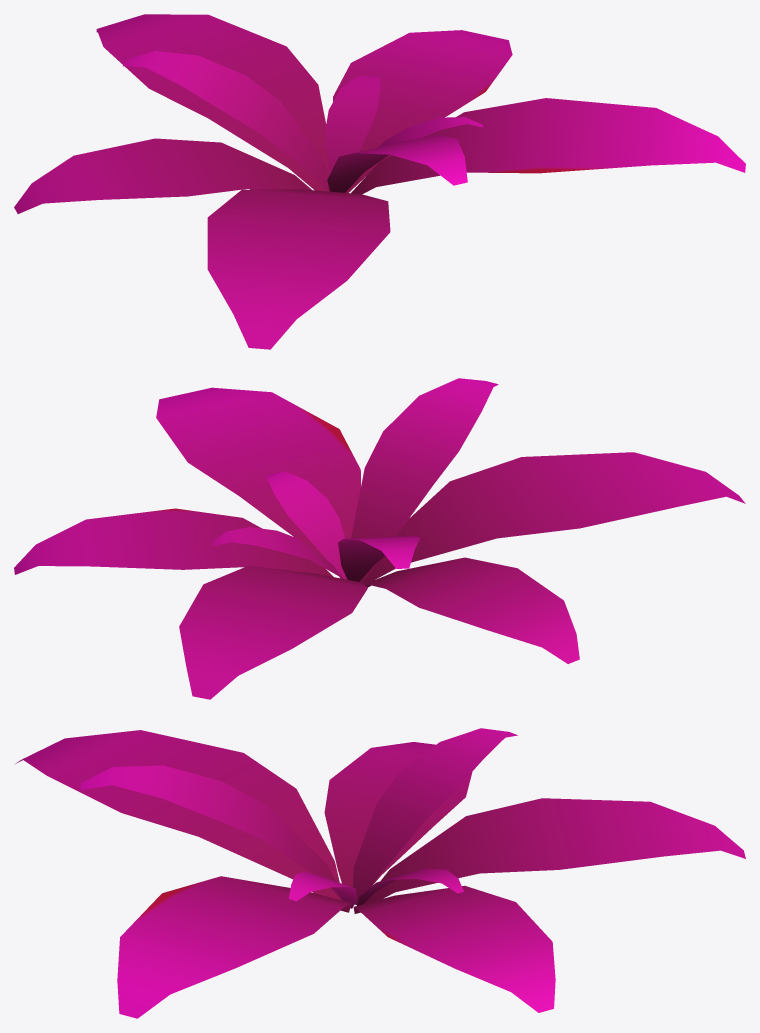
File: plant3_003.fbx
The picture shows the model from 3 angles, top to bottom: view 1: azimuth 30°, elevation 25°; view 2: azimuth 150°, elevation 25°; view 3: azimuth 270°, elevation 25°; orthographic projection. The views are drawn at different scales.
Parts seen in each view (by area): view 1: plant3.003; view 2: plant3.003; view 3: plant3.003.
Boxes of the visible parts, box(x1,y1,x2,y2) form: plant3.003: box(14, 14, 745, 349); plant3.003: box(14, 378, 745, 699); plant3.003: box(14, 728, 745, 1018).
Size of the model in its own units: 37.82 by 7.92 by 40.95.
